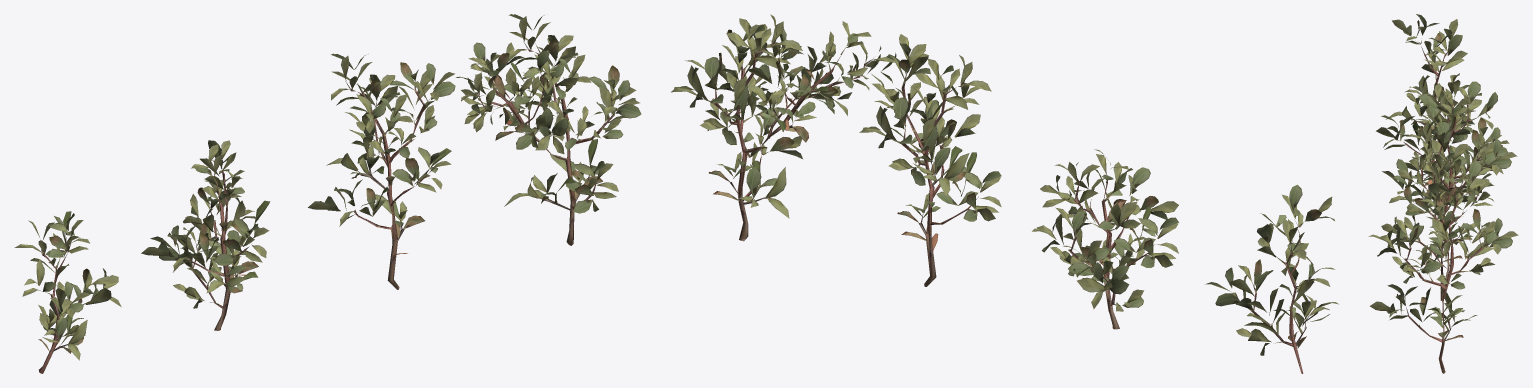
Rendered from m_shrub_04.a9ed817b6a.glb.
3 renders of one model, left to right at view 1: azimuth 30°, elevation 25°; view 2: azimuth 150°, elevation 25°; view 3: azimuth 270°, elevation 25°, orthographic. The views are drawn at different scales.
Visible parts, largest first — view 1: shrub_04; view 2: shrub_04; view 3: shrub_04.
Boxes of the visible parts, x1,y1,x2,y2 form: shrub_04: (14, 14, 641, 373); shrub_04: (671, 14, 1338, 373); shrub_04: (1368, 14, 1518, 373).
Bounding box in the file's own units: 0.5837 × 0.2192 × 0.1461.
Materials: 1 (1 with a texture image).
